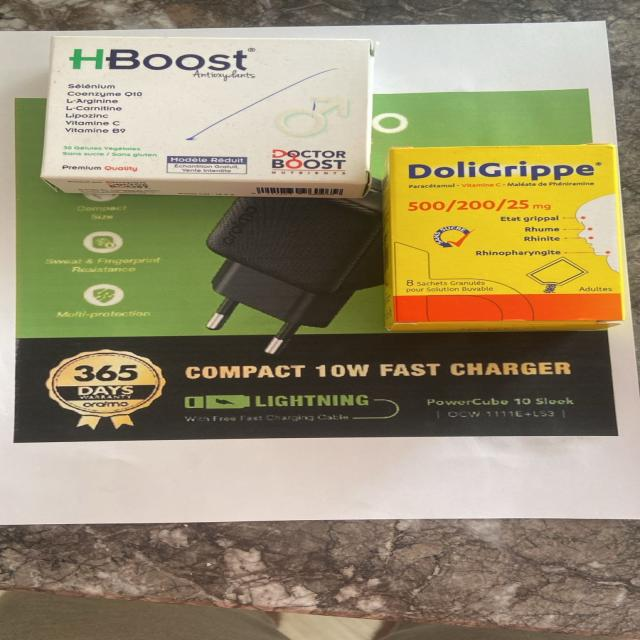PowerCube 10 Sleek OCW-1111ExL53: (421, 397, 577, 421)
